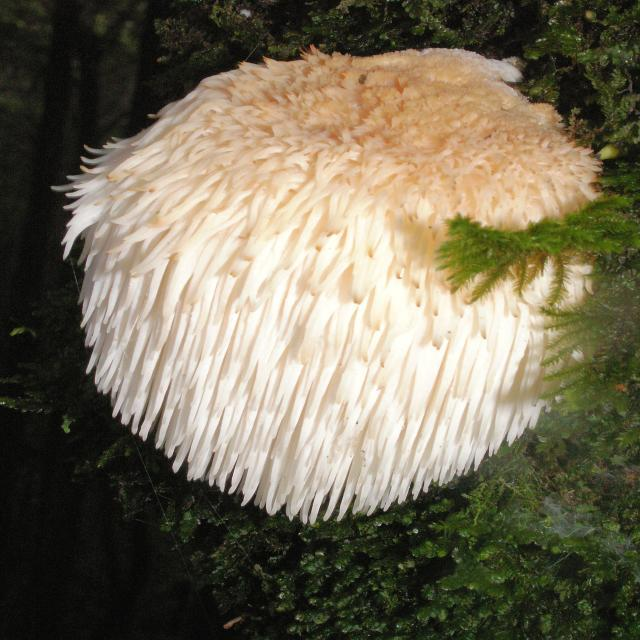Hericium erinaceus: (57, 51, 599, 522)
